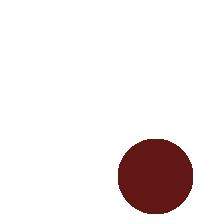circle: (118, 139, 192, 213)
